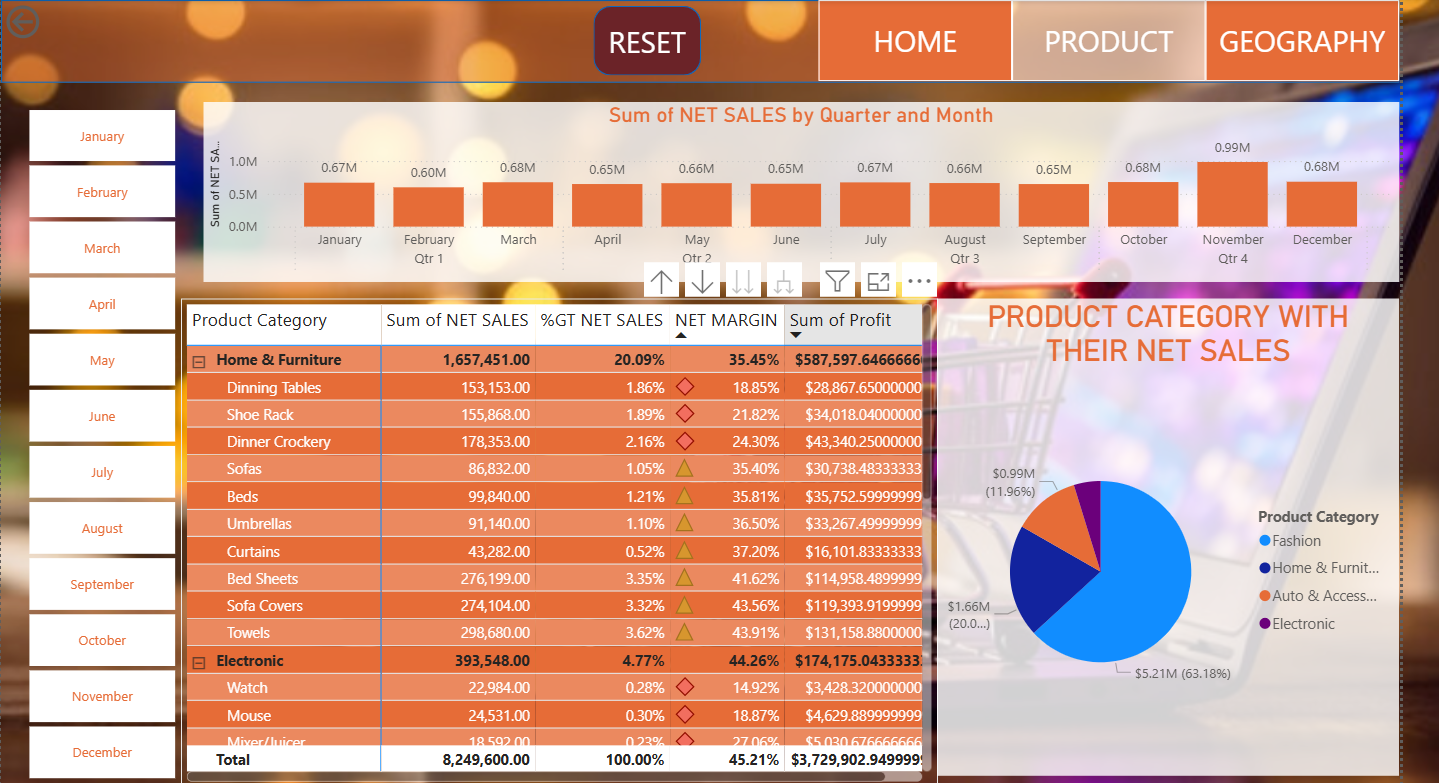

Layout of this report page (visuals, bound fields, positions):
{"tool":"powerbi","page":{"name":"product page","canvas":[1280,720],"ordinal":1},"visuals":[{"type":"shape","box":[0,0,1279.5,75.7],"z":0},{"type":"shape","box":[1102.3,0,177.2,74.2],"z":1000},{"type":"shape","box":[748,0,177.2,74.2],"z":2000},{"type":"shape","box":[925.2,0,177.2,74.2],"z":3000},{"type":"shape","box":[542.1,6.1,98.4,63.6],"z":4000},{"type":"slicer","fields":{"Values":["Sales.Order Date.Variation.Date Hierarchy.Month"]},"box":[0,93.9,183.2,625.4],"z":5000},{"type":"clusteredColumnChart","fields":{"Y":["Sum(Sales.NET SALES)"],"Category":["Sales.Order Date.Variation.Date Hierarchy.Quarter","Sales.Order Date.Variation.Date Hierarchy.Month"]},"box":[185.3,93.3,1093.7,164.7],"z":6000},{"type":"pivotTable","fields":{"Values":["Sum(Sales.NET SALES)","key.NET SALES","key.NET MARGIN","Sum(Sales.Profit)"],"Rows":["Sales.Product Category","Sales.Product"]},"box":[165,272.6,692,446.7],"z":7000},{"type":"actionButton","box":[0,0,100,40],"z":8000},{"type":"pieChart","title":"PRODUCT CATEGORY  WITH THEIR NET SALES","fields":{"Category":["Sales.Product Category"],"Y":["key.NET SALES"]},"box":[856.3,273.1,422.7,436.4],"z":9000}]}

Visuals, with their boxes on the page's 1280x720 design canvas (x1, y1, x2, y2). These are canvas units, not pixel positions in the 1439x783 screenshot, which may show the page scaled, cropped or inside an application window:
shape: (left=0, top=0, right=1280, bottom=76)
shape: (left=1102, top=0, right=1280, bottom=74)
shape: (left=748, top=0, right=925, bottom=74)
shape: (left=925, top=0, right=1102, bottom=74)
shape: (left=542, top=6, right=640, bottom=70)
slicer - Sales.Order Date.Variation.Date Hierarchy.Month: (left=0, top=94, right=183, bottom=719)
clusteredColumnChart - Sum(Sales.NET SALES) x Sales.Order Date.Variation.Date Hierarchy.Quarter: (left=185, top=93, right=1279, bottom=258)
pivotTable - Sum(Sales.NET SALES) x key.NET SALES: (left=165, top=273, right=857, bottom=719)
actionButton: (left=0, top=0, right=100, bottom=40)
"PRODUCT CATEGORY  WITH THEIR NET SALES" pieChart: (left=856, top=273, right=1279, bottom=710)
